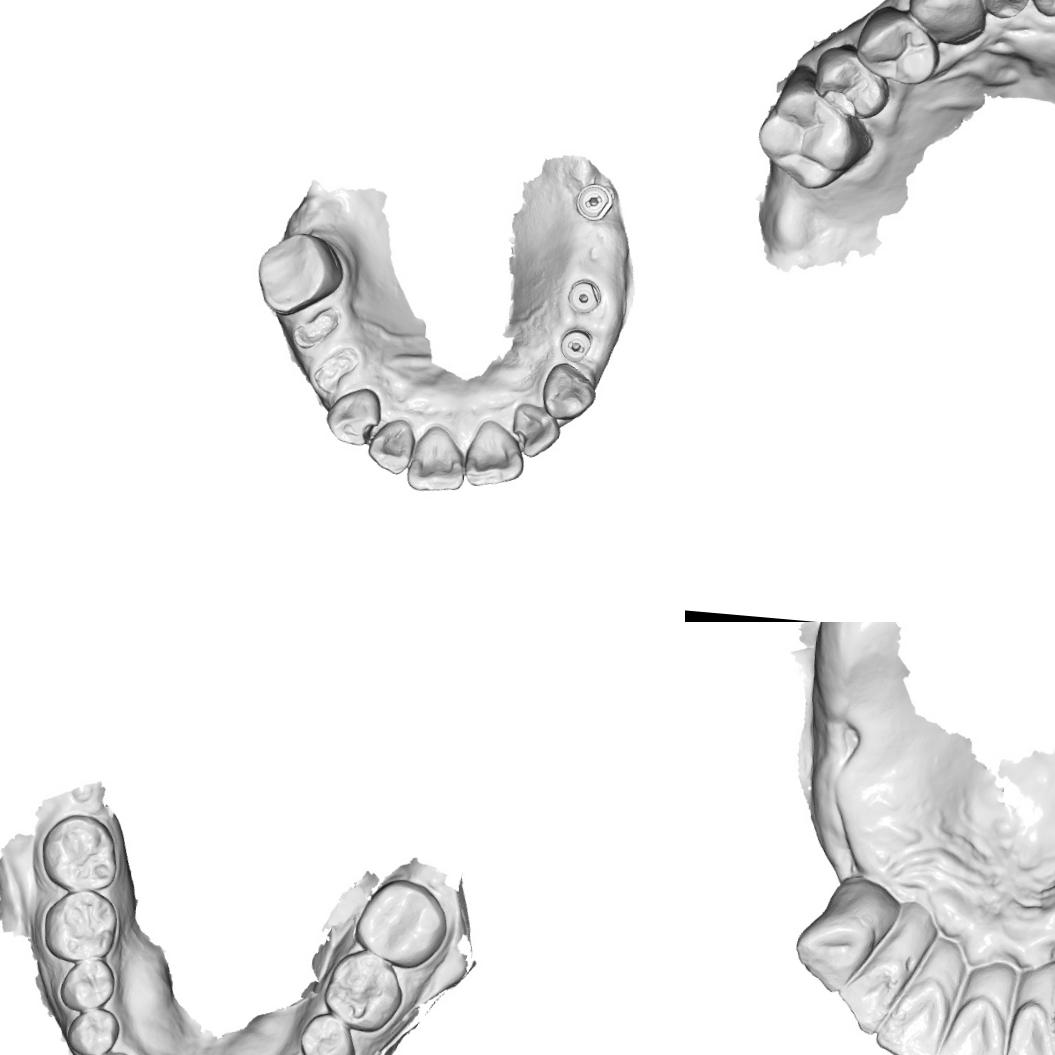canine: (790, 908, 878, 998), (904, 0, 993, 47), (322, 382, 384, 448), (539, 358, 600, 422)
implant: (564, 274, 606, 316)
implant_minus: (571, 179, 618, 224), (555, 325, 594, 364)
incisor: (867, 973, 949, 1055), (835, 953, 908, 1040), (928, 991, 1013, 1055), (460, 414, 530, 490), (404, 420, 470, 495), (996, 995, 1055, 1055), (508, 399, 564, 460), (366, 414, 418, 476), (977, 0, 1032, 20)
molar: (753, 80, 870, 190), (350, 874, 452, 972), (250, 228, 348, 321), (319, 946, 407, 1036), (35, 810, 122, 896), (40, 884, 121, 968)
premolar: (812, 39, 889, 115), (856, 7, 934, 81), (56, 955, 118, 1014), (63, 1005, 122, 1055), (295, 1009, 359, 1055)
